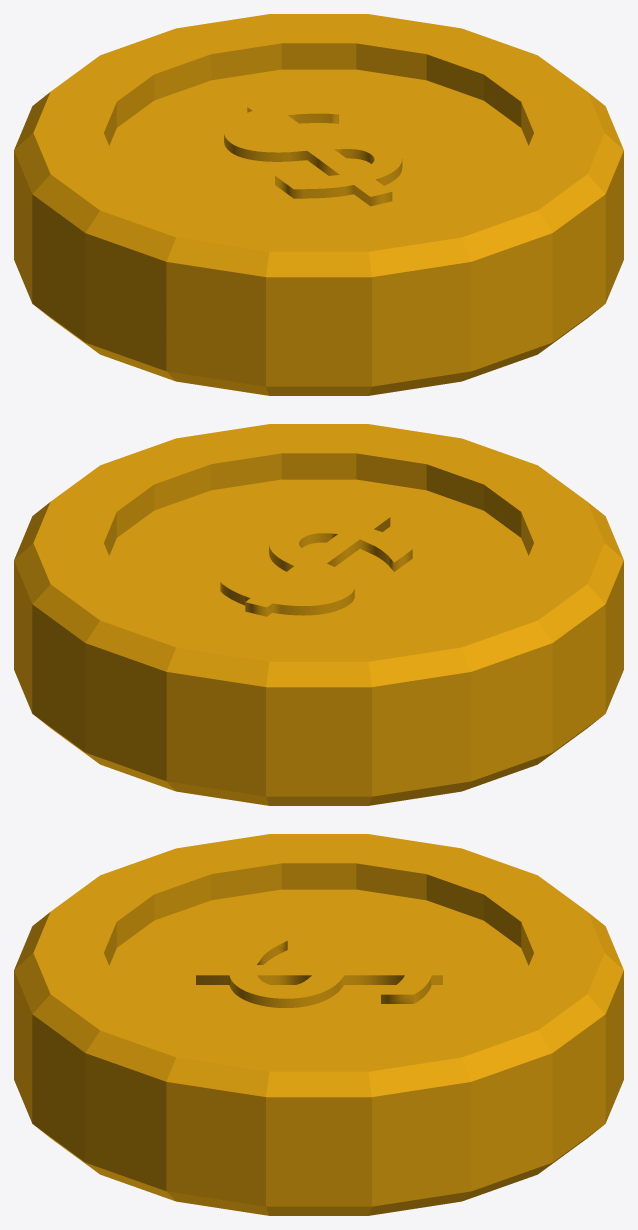
Rendered from coin_new.glb.
The picture shows the model from 3 angles, top to bottom: view 1: azimuth 30°, elevation 25°; view 2: azimuth 150°, elevation 25°; view 3: azimuth 270°, elevation 25°; orthographic projection.
Visible parts, largest first — view 1: Cylinder; view 2: Cylinder; view 3: Cylinder.
Boxes of the visible parts, x1=… form: Cylinder: x1=14, y1=14, x2=623, y2=395; Cylinder: x1=14, y1=424, x2=623, y2=805; Cylinder: x1=14, y1=834, x2=623, y2=1215.
Size of the model in its own units: 1.97 by 0.5213 by 2.
